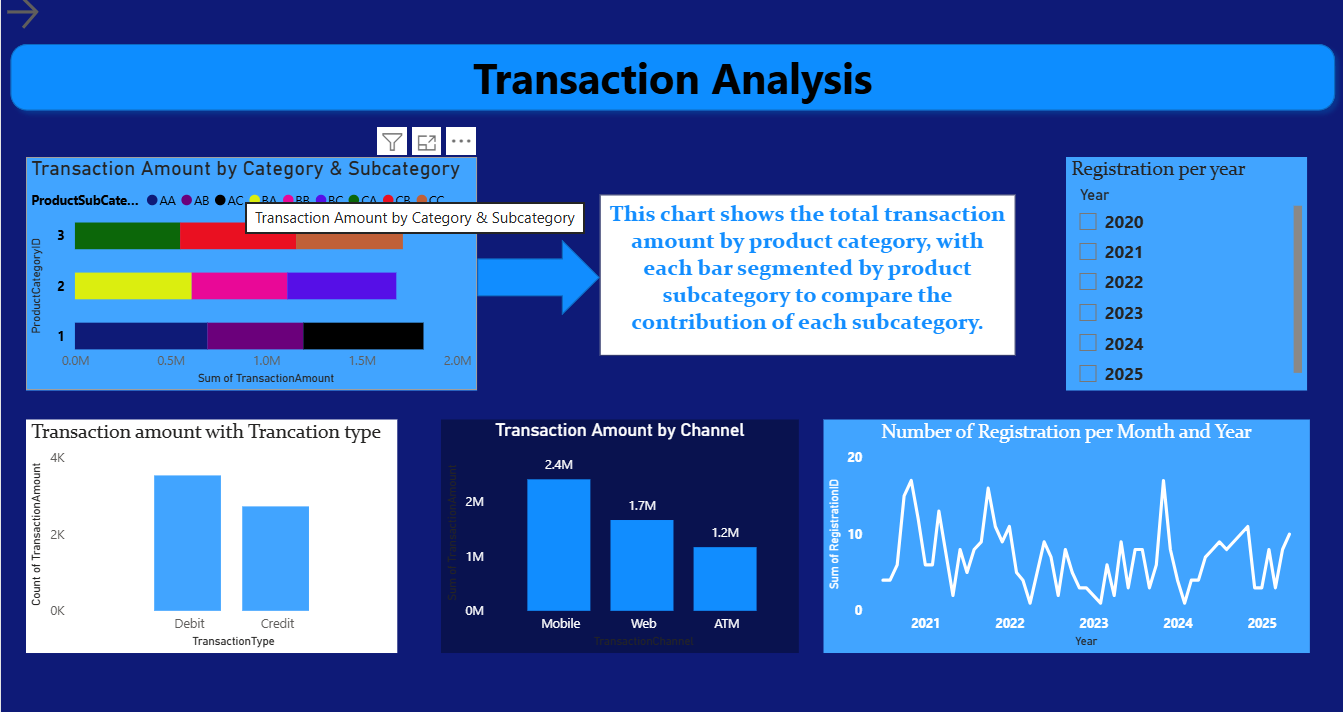

The dashboard page shown, as its layout file describes it:
{"tool":"powerbi","page":{"name":"Page 2","canvas":[1280,720],"ordinal":1},"visuals":[{"type":"shape","box":[0,40.7,1279.6,81.5],"z":0},{"type":"barChart","title":"Transaction Amount by Category & Subcategory","fields":{"Category":["DimProductCategory.ProductCategoryID"],"Y":["Sum(facttran.TransactionAmount)"],"Series":["DimProductSubCategory.ProductSubCategoryName"]},"box":[24.1,157.4,429.6,222.2],"z":1000},{"type":"textbox","box":[570.4,192.6,396.3,153.7],"z":2000},{"type":"actionButton","box":[0,0,100,40],"z":3000},{"type":"shape","box":[453.7,235.2,116.7,72.2],"z":4000},{"type":"clusteredColumnChart","title":"Transaction amount with Trancation type ","fields":{"Category":["facttran.TransactionType"],"Y":["Count(facttran.TransactionAmount)"]},"box":[24.1,407.4,353.7,222.2],"z":5000},{"type":"clusteredColumnChart","title":"Transaction Amount by Channel","fields":{"Category":["facttran.TransactionChannel"],"Y":["Sum(facttran.TransactionAmount)"]},"box":[418.5,407.4,340.7,222.2],"z":6000},{"type":"lineChart","title":"Number of Registration per Month and Year","fields":{"Category":["DimAccount.OpenDate.Variation.Date Hierarchy.Year","DimAccount.OpenDate.Variation.Date Hierarchy.Month"],"Y":["Sum(DimAccount.RegistrationID)"]},"box":[783.3,407.4,463,222.2],"z":7000},{"type":"slicer","title":"Registration per year","fields":{"Values":["DimAccount.OpenDate.Variation.Date Hierarchy.Year"]},"box":[1014.8,157.4,229.6,222.2],"z":8000}]}

Visuals, with their boxes on the page's 1280x720 design canvas (x1, y1, x2, y2). These are canvas units, not pixel positions in the 1343x712 screenshot, which may show the page scaled, cropped or inside an application window:
shape: 0 41 1280 122
"Transaction Amount by Category & Subcategory" barChart: 24 157 454 380
textbox: 570 193 967 346
actionButton: 0 0 100 40
shape: 454 235 570 307
"Transaction amount with Trancation type " clusteredColumnChart: 24 407 378 630
"Transaction Amount by Channel" clusteredColumnChart: 418 407 759 630
"Number of Registration per Month and Year" lineChart: 783 407 1246 630
"Registration per year" slicer: 1015 157 1244 380
